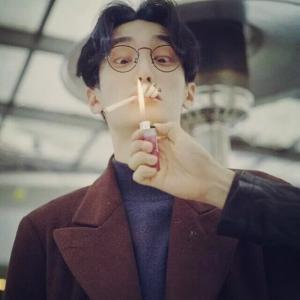no_mask: (70, 1, 200, 149)
